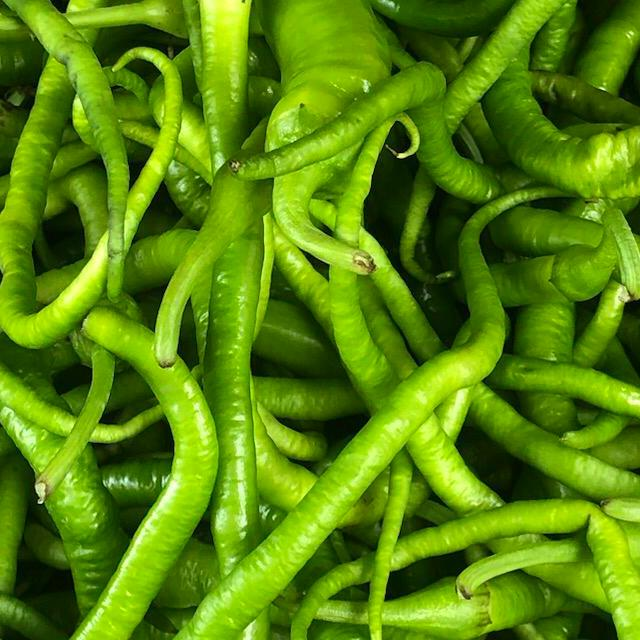chili_pepper: (117, 0, 452, 275)
